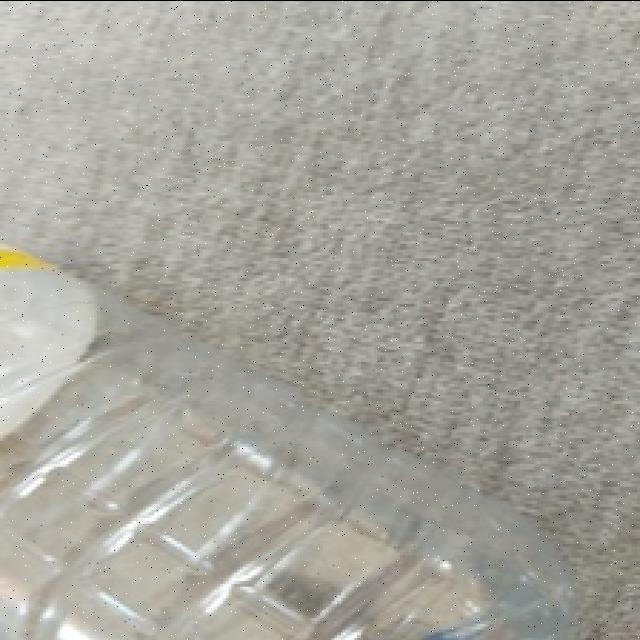plastic: (0, 186, 578, 634)
